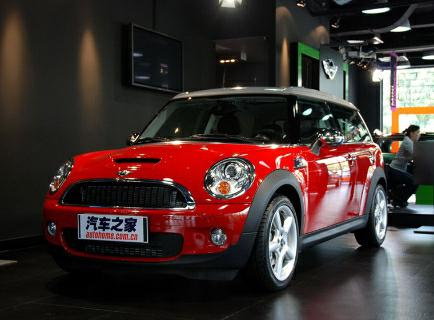MINI CLUBMAN: (40, 89, 398, 290)
